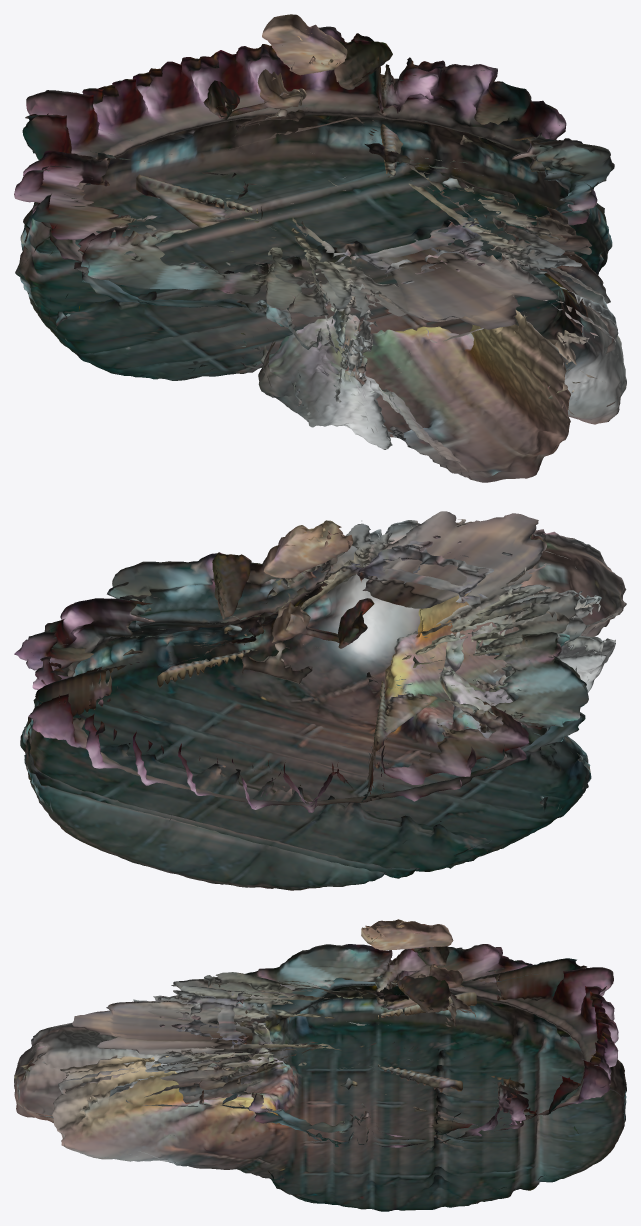
File: gen-19.glb
3 views of the same model, one above another, from view 1: azimuth 30°, elevation 25°; view 2: azimuth 150°, elevation 25°; view 3: azimuth 270°, elevation 25° (orthographic). The views are drawn at different scales.
Visible parts, largest first — view 1: world; view 2: world; view 3: world.
Boxes of the visible parts, bbox=[...] form: world: bbox=[14, 14, 626, 482]; world: bbox=[14, 511, 626, 890]; world: bbox=[14, 919, 626, 1211].
Size of the model in its own units: 11.05 by 5.49 by 14.61.
